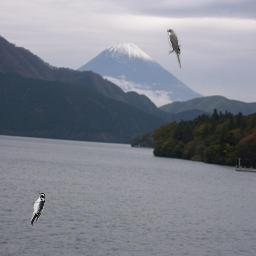Cuckoo: (167, 29, 181, 69)
Woodpecker: (30, 192, 45, 226)
